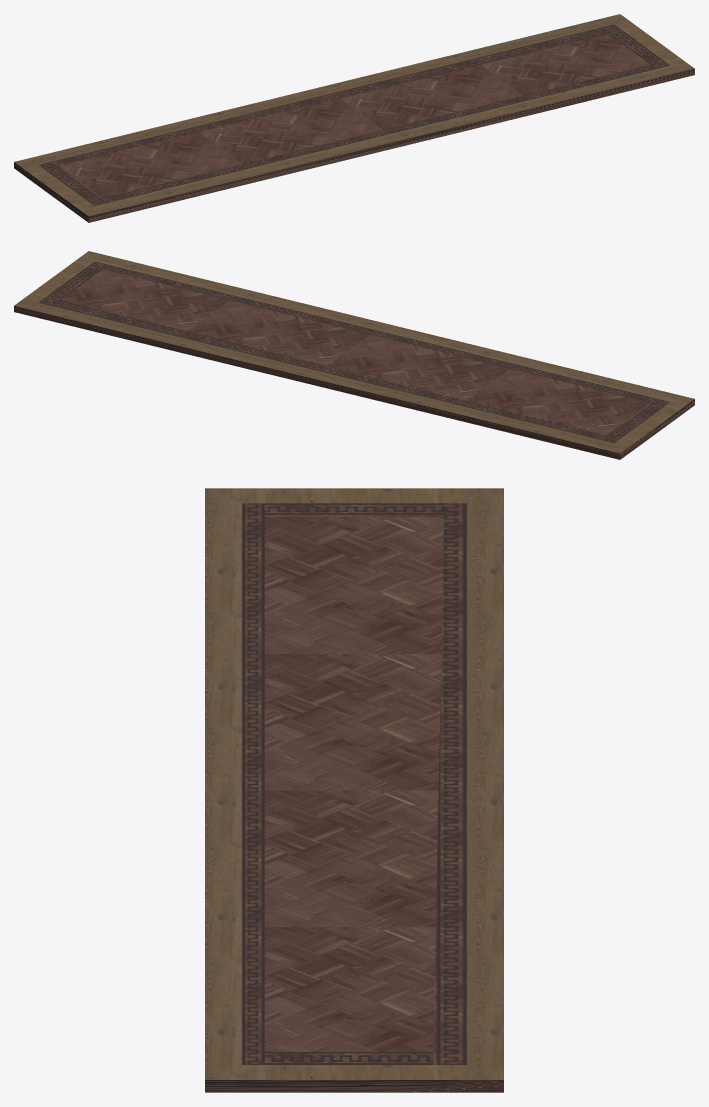
Rendered from SM_PattenFloor01H.fbx.
3 views of the same model, one above another, from view 1: azimuth 30°, elevation 25°; view 2: azimuth 150°, elevation 25°; view 3: azimuth 270°, elevation 25° (orthographic). The views are drawn at different scales.
Visible parts, largest first — view 1: SM_PattenFloor01H; view 2: SM_PattenFloor01H; view 3: SM_PattenFloor01H.
Part boxes in pixels (left/top/right/bottom): SM_PattenFloor01H: left=14, top=14, right=694, bottom=222; SM_PattenFloor01H: left=14, top=251, right=694, bottom=459; SM_PattenFloor01H: left=205, top=488, right=503, bottom=1092.
Bounding box in the file's own units: 902 × 193 × 9.
